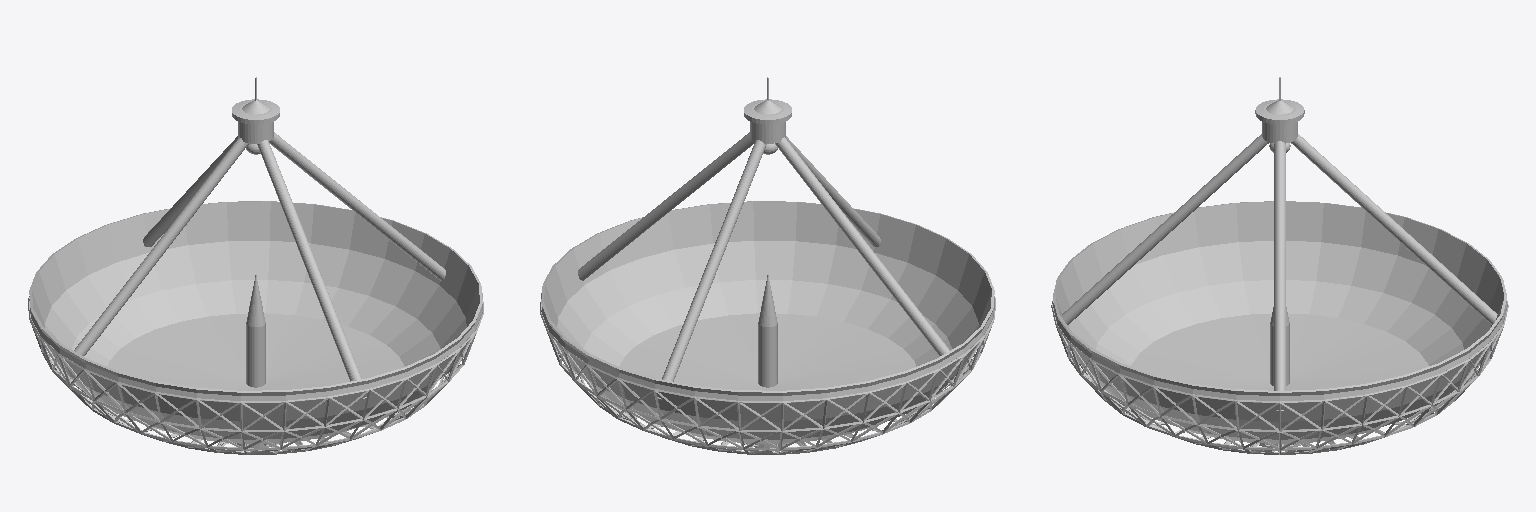
File: parabolic_antenna.obj
3 views of the same model, side by side, from view 1: azimuth 30°, elevation 25°; view 2: azimuth 150°, elevation 25°; view 3: azimuth 270°, elevation 25° (orthographic).
Visible parts, largest first — view 1: Cylinder, Cylinder.004_Cylinder.007, Cylinder.001_Cylinder.005, Cylinder.003_Cylinder.009, Cylinder.008_Cylinder.012, Cylinder.005_Cylinder.008, Cylinder.007_Cylinder.011, Cylinder.002, Cone_Cone.001; view 2: Cylinder, Cylinder.004_Cylinder.007, Cylinder.005_Cylinder.008, Cylinder.003_Cylinder.009, Cylinder.008_Cylinder.012, Cylinder.001_Cylinder.005, Cylinder.007_Cylinder.011, Cylinder.002, Cone_Cone.001; view 3: Cylinder, Cylinder.001_Cylinder.005, Cylinder.005_Cylinder.008, Cylinder.003_Cylinder.009, Cylinder.007_Cylinder.011, Cylinder.002.
Part boxes in pixels (bbox=[...]): Cylinder: bbox=[28, 201, 483, 454]; Cylinder.004_Cylinder.007: bbox=[64, 137, 248, 363]; Cylinder.001_Cylinder.005: bbox=[257, 140, 366, 399]; Cylinder.003_Cylinder.009: bbox=[269, 132, 445, 280]; Cylinder.008_Cylinder.012: bbox=[246, 324, 265, 387]; Cylinder.005_Cylinder.008: bbox=[143, 136, 237, 246]; Cylinder.007_Cylinder.011: bbox=[232, 99, 279, 124]; Cylinder.002: bbox=[238, 122, 273, 143]; Cone_Cone.001: bbox=[246, 275, 265, 326]; Cylinder: bbox=[540, 201, 995, 454]; Cylinder.004_Cylinder.007: bbox=[775, 137, 959, 363]; Cylinder.005_Cylinder.008: bbox=[657, 140, 766, 399]; Cylinder.003_Cylinder.009: bbox=[578, 132, 754, 280]; Cylinder.008_Cylinder.012: bbox=[758, 324, 777, 387]; Cylinder.001_Cylinder.005: bbox=[786, 136, 880, 246]; Cylinder.007_Cylinder.011: bbox=[744, 99, 791, 124]; Cylinder.002: bbox=[750, 122, 785, 143]; Cone_Cone.001: bbox=[758, 275, 777, 326]; Cylinder: bbox=[1051, 201, 1508, 454]; Cylinder.001_Cylinder.005: bbox=[1062, 134, 1268, 324]; Cylinder.005_Cylinder.008: bbox=[1291, 134, 1497, 324]; Cylinder.003_Cylinder.009: bbox=[1274, 141, 1285, 410]; Cylinder.007_Cylinder.011: bbox=[1255, 99, 1304, 124]; Cylinder.002: bbox=[1262, 122, 1297, 143].
Bounding box in the file's own units: 3.82 × 3.28 × 3.82.